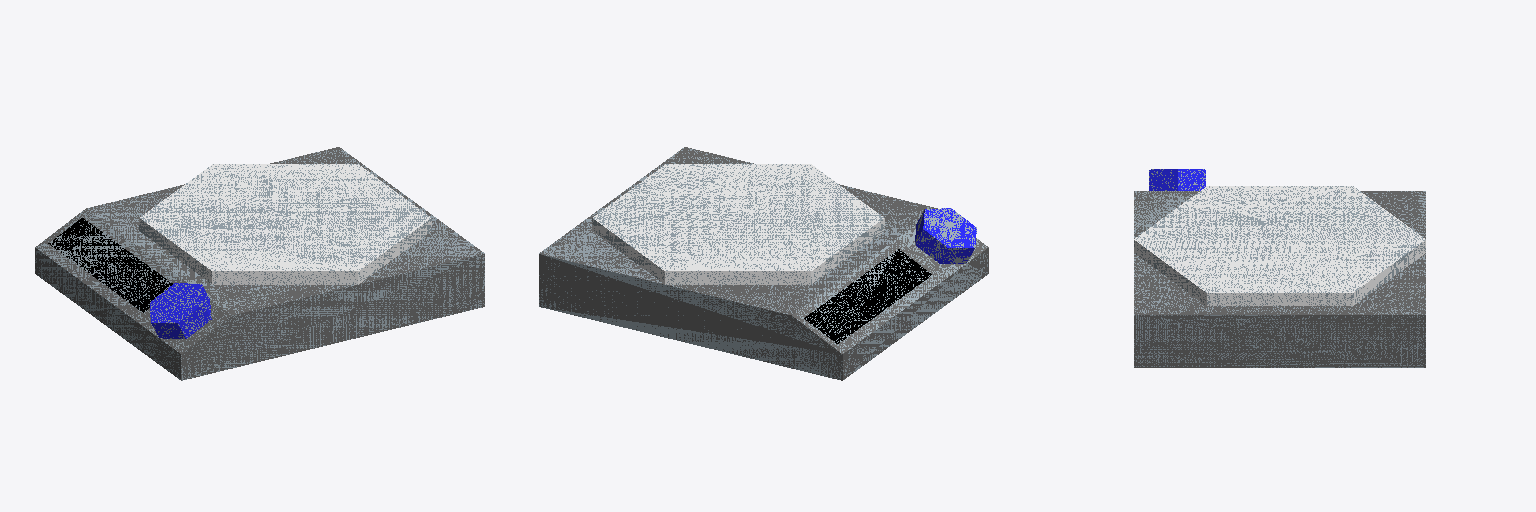
Rendered from HotPlate.obj.
3 views of the same model, side by side, from view 1: azimuth 30°, elevation 25°; view 2: azimuth 150°, elevation 25°; view 3: azimuth 270°, elevation 25° (orthographic).
Visible parts, largest first — view 1: Mesh1 Model; view 2: Mesh1 Model; view 3: Mesh1 Model.
Boxes of the visible parts, x1=… form: Mesh1 Model: x1=35, y1=147, x2=484, y2=380; Mesh1 Model: x1=539, y1=147, x2=988, y2=380; Mesh1 Model: x1=1134, y1=169, x2=1425, y2=367.
Bounding box in the file's own units: 0.2467 × 0.0534 × 0.2.